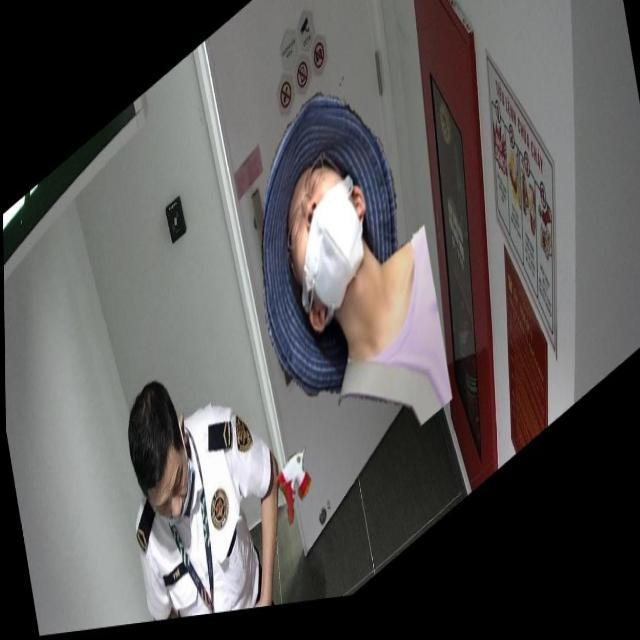hairnet: (281, 146, 368, 345), (144, 454, 198, 545)
